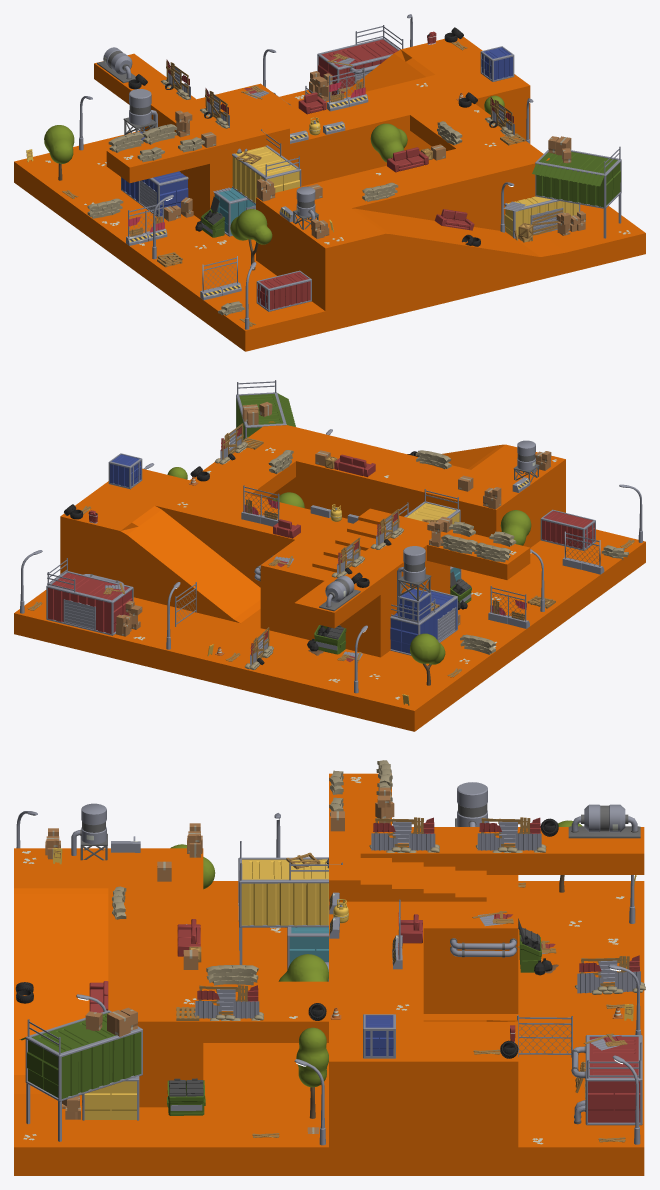
The model's file is map1.glb.
3 views of the same model, one above another, from view 1: azimuth 30°, elevation 25°; view 2: azimuth 150°, elevation 25°; view 3: azimuth 270°, elevation 25° (orthographic). The views are drawn at different scales.
Visible parts, largest first — view 1: Map, Structure_2, Structure_4, Structure_3, Structure_1, Container_Long, Tree_3, Barrier_Fixed.001, Container_Small, Barrier_Fixed, Tree_4, Tree_1 (+10 smaller); view 2: Map, Structure_1, Structure_3, Structure_2, Container_Long, Structure_4, Container_Small, Barrier_Fixed, Barrier_Fixed.001, Tree_4, TrashContainer_Open, Barrier_Large (+11 smaller); view 3: Map, Structure_2, Structure_4, Structure_1, Barrier_Trash.003, Barrier_Trash, Barrier_Trash.002, Barrier_Trash.001, WaterTank_Floor, Tree_2, Container_Small, WaterTank_Platform (+8 smaller).
Part boxes in pixels (x1,y1,x2,y2): Map: (14,37,645,351); Structure_2: (503,136,621,242); Structure_4: (195,129,301,237); Structure_3: (121,89,193,221); Structure_1: (309,25,403,101); Container_Long: (256,270,311,311); Tree_3: (230,209,272,270); Barrier_Fixed.001: (327,67,368,111); Container_Small: (480,46,514,81); Barrier_Fixed: (126,201,167,245); Tree_4: (44,125,74,180); Tree_1: (370,123,407,162); Map: (14,421,645,731); Structure_1: (46,558,142,636); Structure_3: (390,546,460,655); Structure_2: (236,380,295,439); Container_Long: (540,509,595,550); Structure_4: (394,489,471,609); Container_Small: (108,453,142,489); Barrier_Fixed: (488,585,529,628); Barrier_Fixed.001: (241,485,279,526); Tree_4: (410,633,445,685); TrashContainer_Open: (307,625,346,655); Barrier_Large: (562,531,604,574); Map: (14,773,644,1175); Structure_2: (19,1007,142,1141); Structure_4: (238,841,342,981); Structure_1: (571,1033,642,1125); Barrier_Trash.003: (193,985,263,1020); Barrier_Trash: (574,955,645,994); Barrier_Trash.002: (475,817,546,852); Barrier_Trash.001: (369,817,439,852); WaterTank_Floor: (568,804,640,838); Tree_2: (296,1027,328,1118); Container_Small: (363,1014,395,1058); WaterTank_Platform: (71,803,107,860).
Size of the model in its own units: 40.45 by 11.79 by 40.1.
217 materials, 4 textured.
